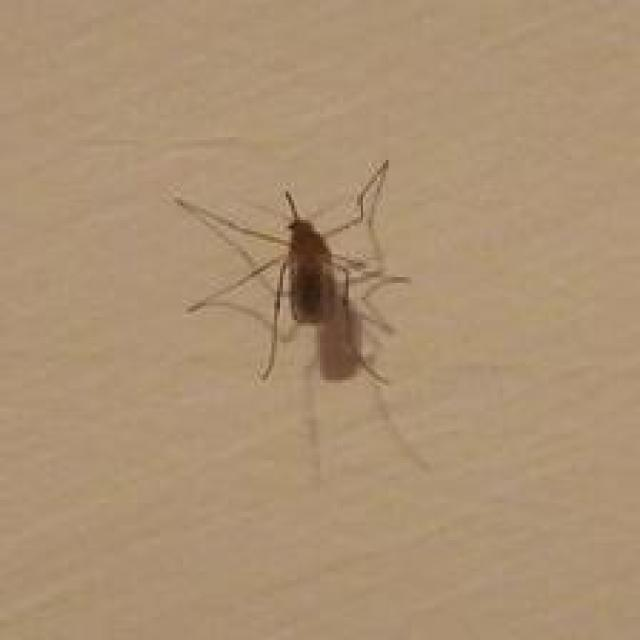Culex: (170, 157, 433, 483)
